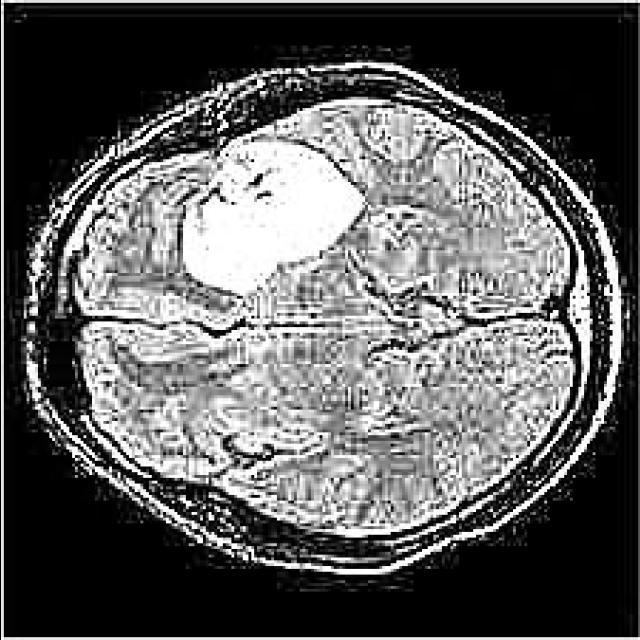tumor: (179, 134, 364, 299)
